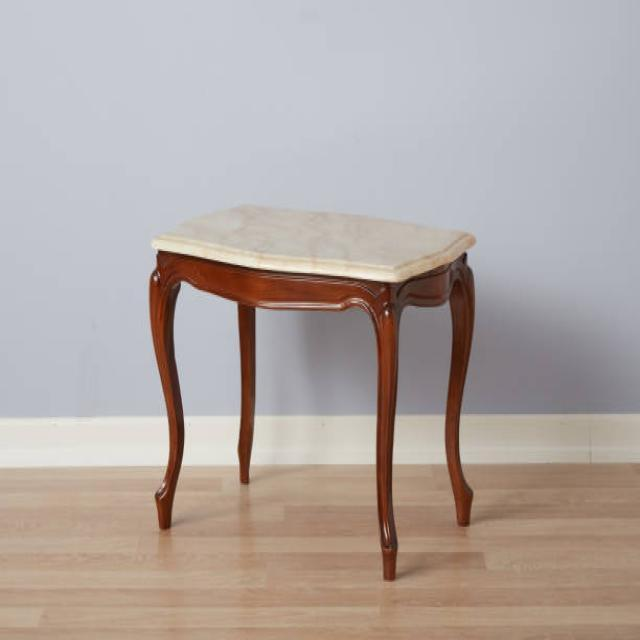table: (147, 200, 477, 580)
